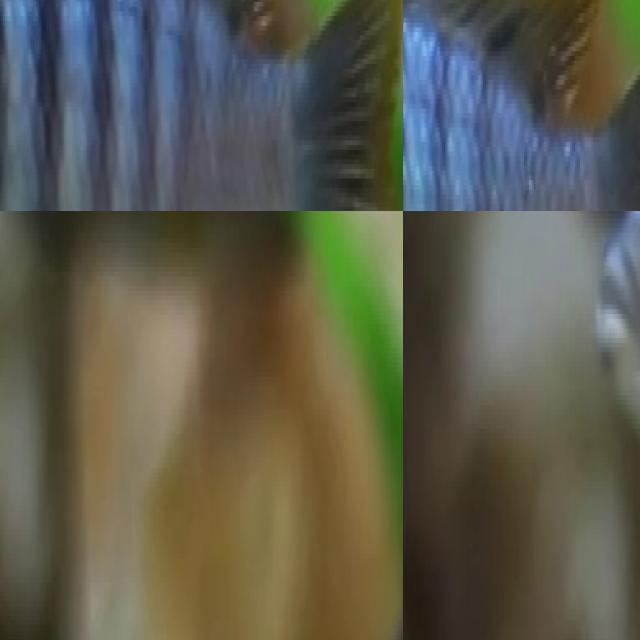fish: (0, 0, 403, 211), (480, 211, 640, 640), (121, 211, 403, 286)
